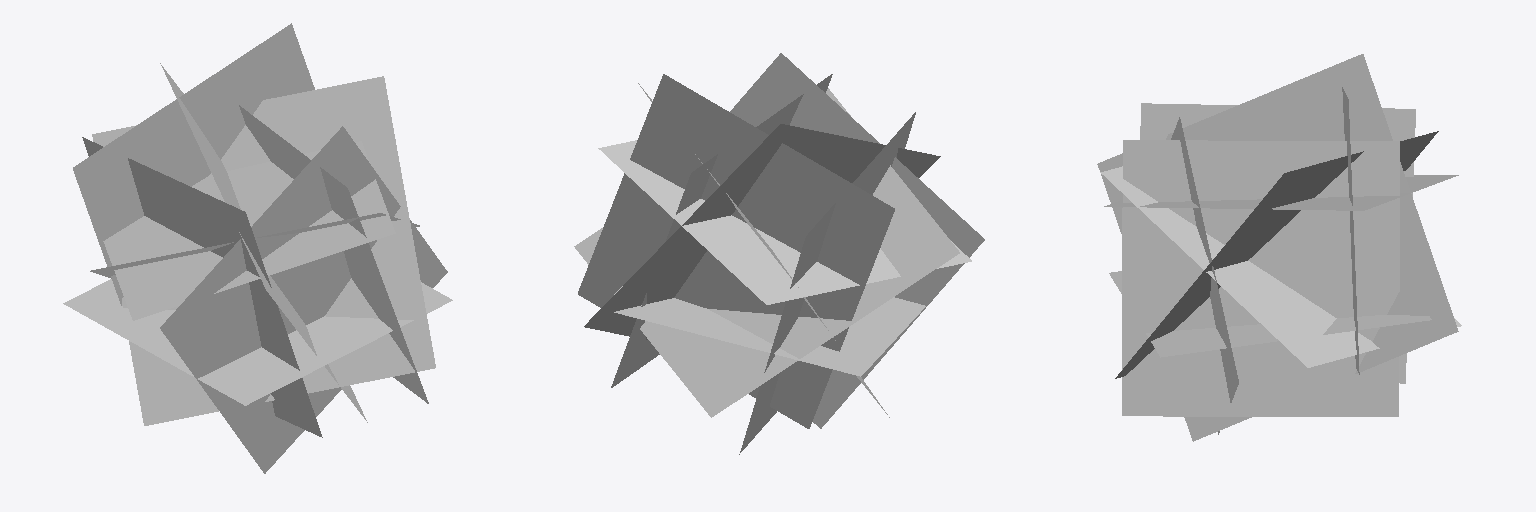
Rendered from spruce_leaves_4.obj.
3 renders of one model, left to right at view 1: azimuth 30°, elevation 25°; view 2: azimuth 150°, elevation 25°; view 3: azimuth 270°, elevation 25°, orthographic.
Visible parts, largest first — view 1: west, bottom, east, top, south, north; view 2: top, east, south, bottom, west, north; view 3: north, east, south, west, bottom, top.
Boxes of the visible parts, x1=… form: west: x1=63, y1=76, x2=452, y2=425; bottom: x1=160, y1=126, x2=447, y2=473; east: x1=103, y1=63, x2=395, y2=422; top: x1=73, y1=23, x2=314, y2=305; south: x1=82, y1=137, x2=419, y2=437; north: x1=239, y1=105, x2=428, y2=403; top: x1=578, y1=74, x2=894, y2=428; east: x1=584, y1=124, x2=971, y2=339; south: x1=574, y1=88, x2=959, y2=454; bottom: x1=730, y1=53, x2=984, y2=428; west: x1=614, y1=83, x2=925, y2=417; north: x1=611, y1=74, x2=832, y2=387; north: x1=1122, y1=140, x2=1399, y2=416; east: x1=1097, y1=54, x2=1458, y2=441; south: x1=1100, y1=103, x2=1461, y2=383; west: x1=1109, y1=131, x2=1438, y2=378; bottom: x1=1171, y1=117, x2=1238, y2=434; top: x1=1342, y1=87, x2=1359, y2=374.
Size of the model in its own units: 2.25 by 2.27 by 1.98.